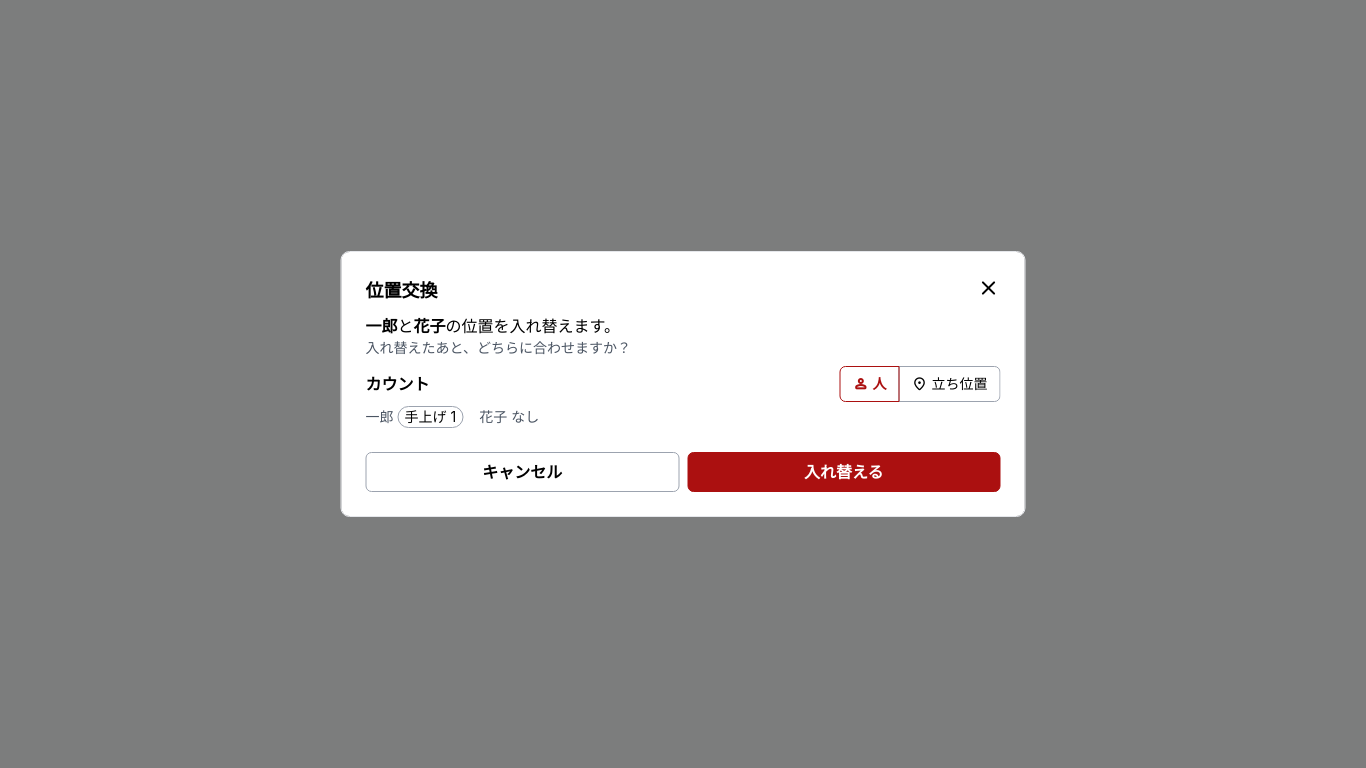
SwapDialog › lists only what differs, with what each has now, and switches between 人 and 立ち位置
Later steps or results of the test are not shown.
Check: the text "入れ替えたあと、どちらに合わせますか？" is shown, box [366,339,631,356]
Check: the text "手上げ 1" is shown, box [398,406,463,428]
Click the radio button labelled "立ち位置".
click(950, 384)  # box [898,366,1000,402]
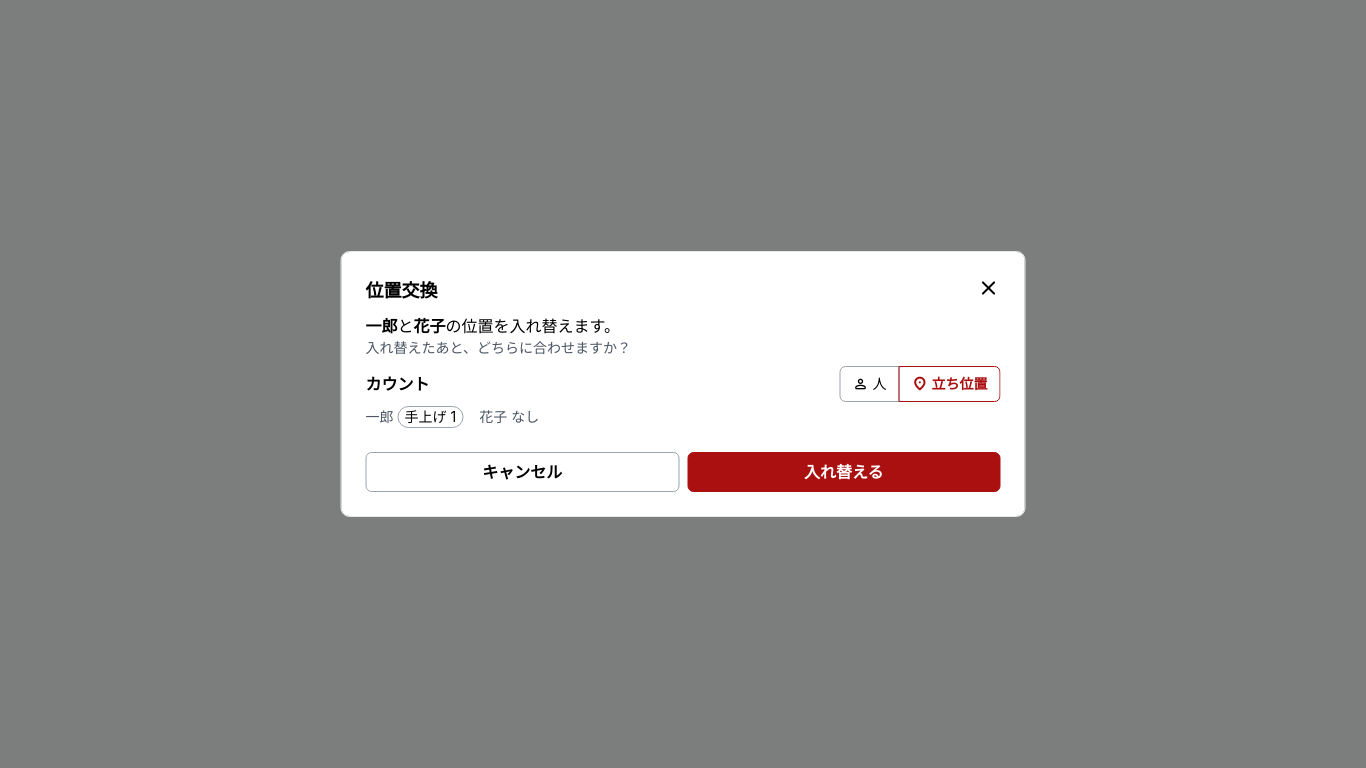
Check: the radio button labelled "立ち位置" is checked, box [898,366,1000,402]
Check: the radio button labelled "人" is not checked, box [840,366,900,402]
